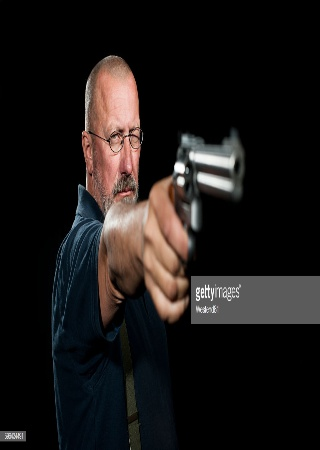handgun: (172, 129, 243, 258)
